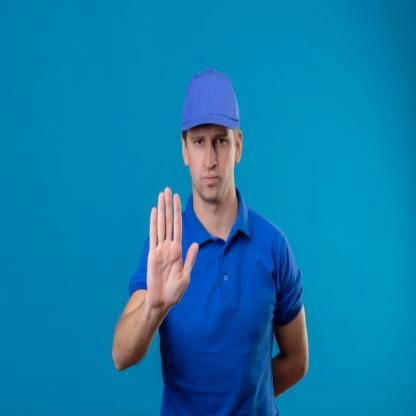stop: (145, 184, 200, 315)
